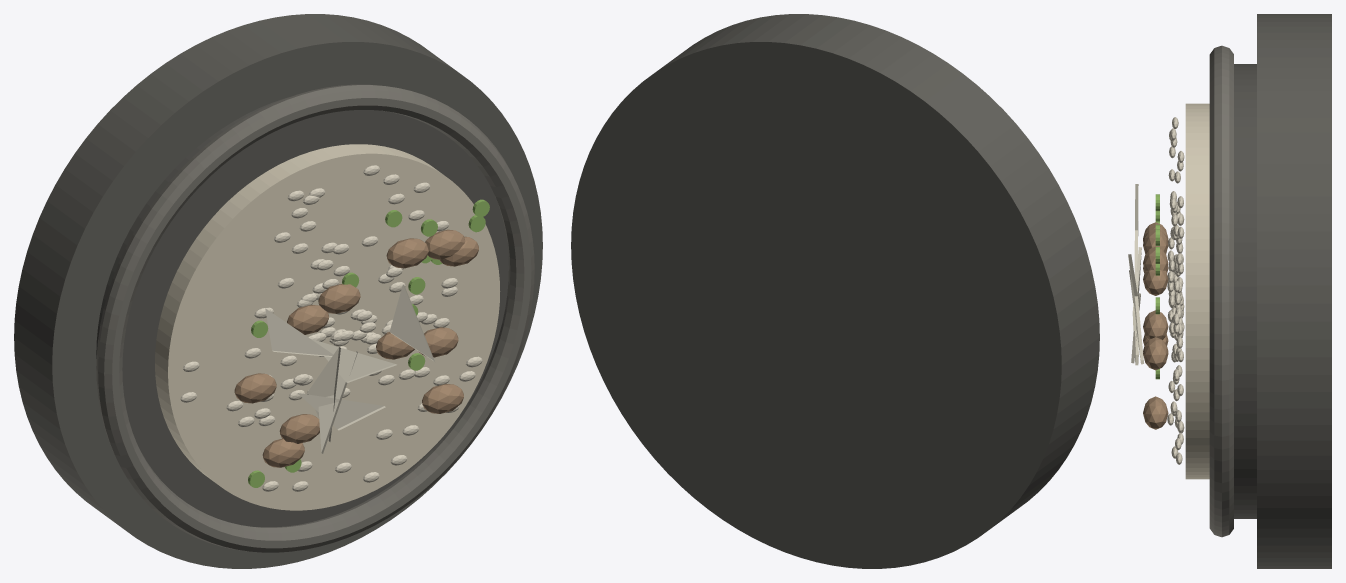
File: 05_porcini_mushroom_risotto.glb
3 views of the same model, side by side, from view 1: azimuth 30°, elevation 25°; view 2: azimuth 150°, elevation 25°; view 3: azimuth 270°, elevation 25° (orthographic). The views are drawn at different scales.
Parts seen in each view (by area): view 1: creamy_risotto_base, bowl_outer, bowl_rim, bowl_inner_dark, parmesan_shaving_4, parmesan_shaving_0, parmesan_shaving_3, parmesan_shaving_1, porcini_piece_0, porcini_piece_4, porcini_piece_7, porcini_piece_3 (+8 smaller); view 2: bowl_outer; view 3: bowl_outer, bowl_rim, bowl_inner_dark, creamy_risotto_base, porcini_piece_6, porcini_piece_7, porcini_piece_10, porcini_piece_9, parmesan_shaving_0, porcini_piece_8, porcini_piece_4, parmesan_shaving_4.
Part boxes in pixels (x1,y1,x2,y2): creamy_risotto_base: (155, 144, 500, 510); bowl_outer: (14, 14, 542, 568); bowl_rim: (96, 84, 534, 552); bowl_inner_dark: (96, 97, 508, 527); parmesan_shaving_4: (265, 308, 333, 356); parmesan_shaving_0: (389, 284, 434, 361); parmesan_shaving_3: (311, 339, 396, 382); parmesan_shaving_1: (297, 393, 385, 430); porcini_piece_0: (234, 373, 276, 403); porcini_piece_4: (386, 238, 428, 268); porcini_piece_7: (422, 383, 463, 413); porcini_piece_3: (318, 284, 360, 313); bowl_outer: (571, 14, 1099, 568); bowl_outer: (1257, 14, 1331, 568); bowl_rim: (1209, 45, 1233, 537); bowl_inner_dark: (1234, 64, 1256, 518); creamy_risotto_base: (1185, 103, 1209, 479); porcini_piece_6: (1143, 337, 1168, 370); porcini_piece_7: (1143, 396, 1168, 429); porcini_piece_10: (1143, 310, 1168, 339); porcini_piece_9: (1143, 270, 1168, 295); parmesan_shaving_0: (1128, 254, 1143, 360); porcini_piece_8: (1143, 246, 1168, 270); porcini_piece_4: (1143, 228, 1168, 253); parmesan_shaving_4: (1134, 184, 1138, 281).
Bounding box in the file's own units: 0.26 × 0.26 × 0.0954.
